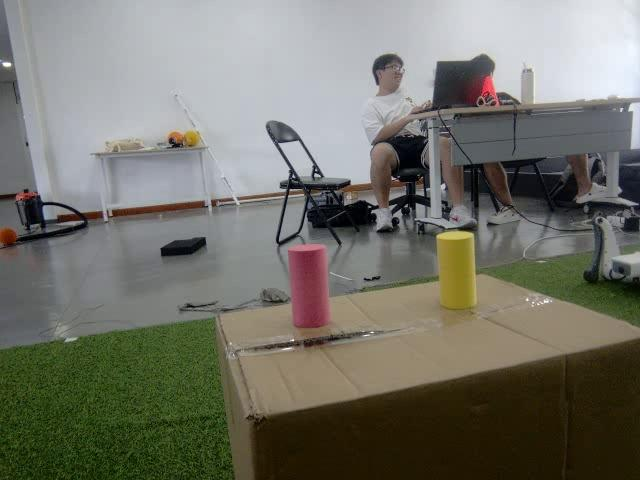red_cylinder: (287, 244, 330, 328)
yellow_cylinder: (436, 230, 476, 308)
